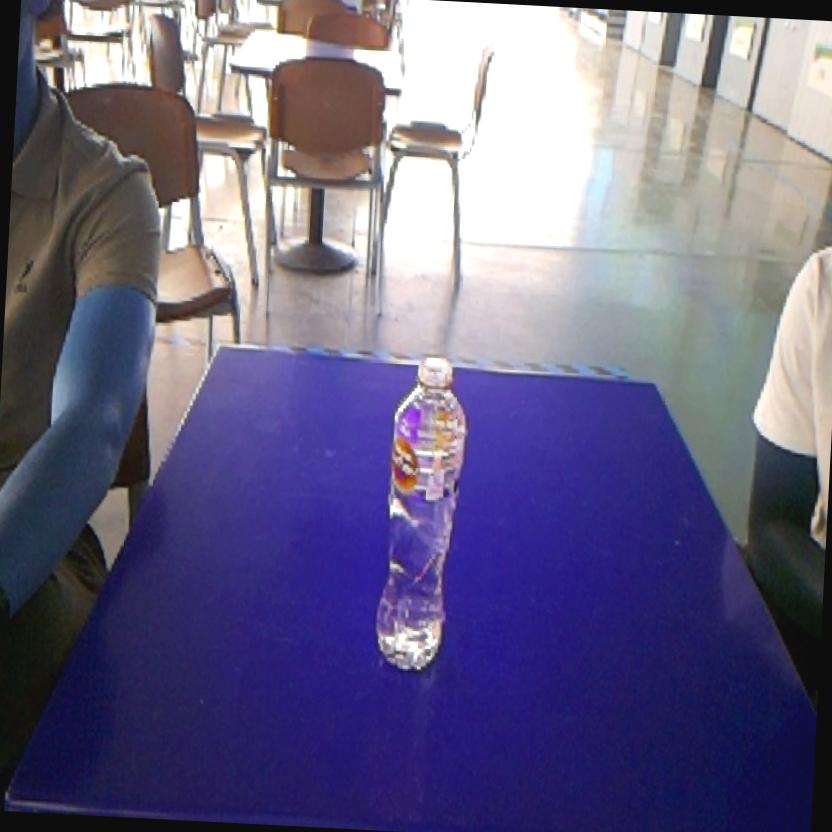no_cap: (366, 340, 478, 686)
